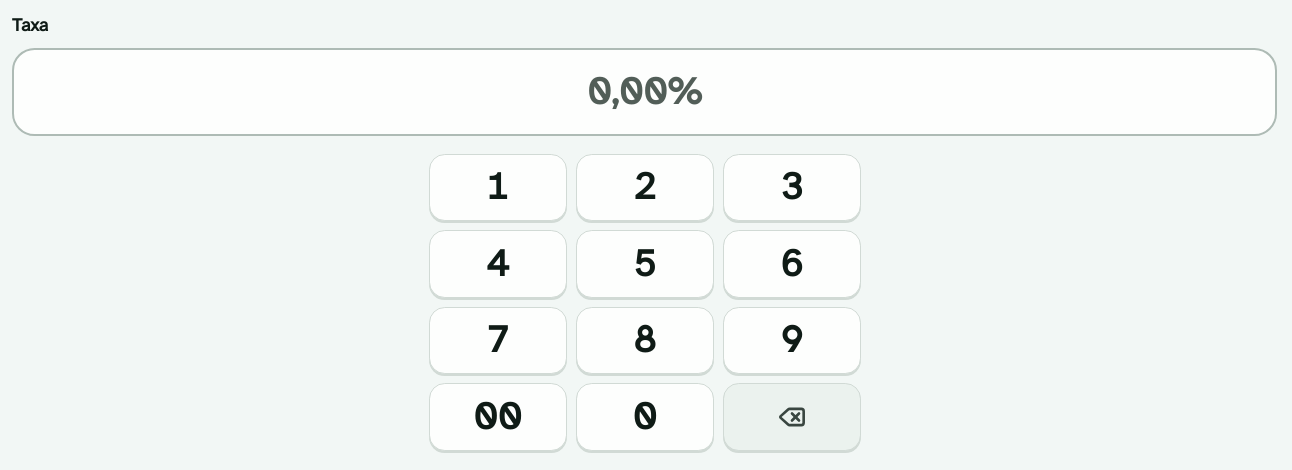
Test: PercentInput › os dígitos entram pela direita com 2 casas, sem vírgula
Check: the field labelled "Taxa" holds "0,00%", box [12,48,1277,136]
Click the button "1".
click(498, 187)  # box [428,154,566,221]
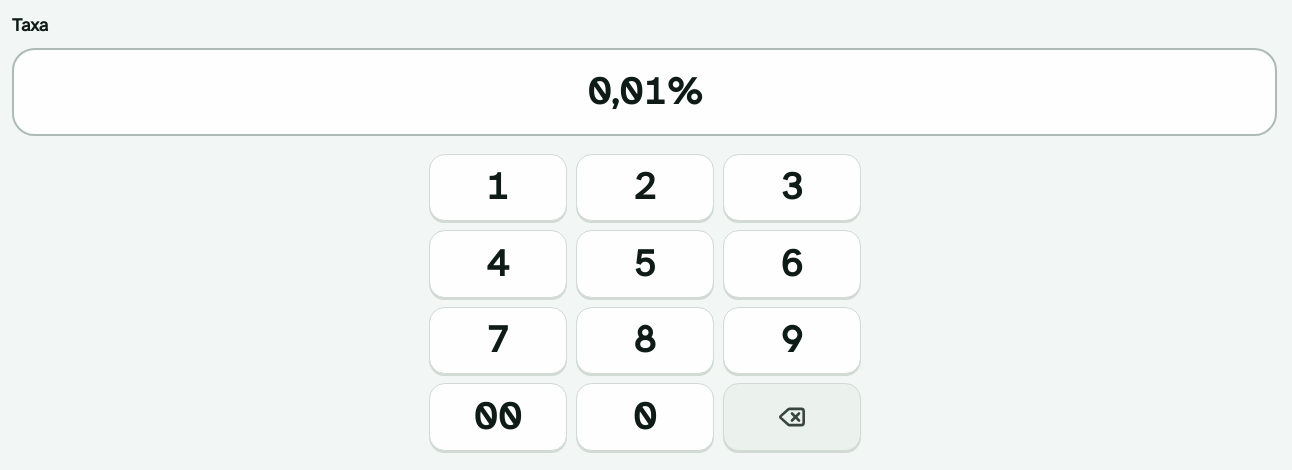
Click the button "9".
click(792, 340)  # box [722,307,860,374]
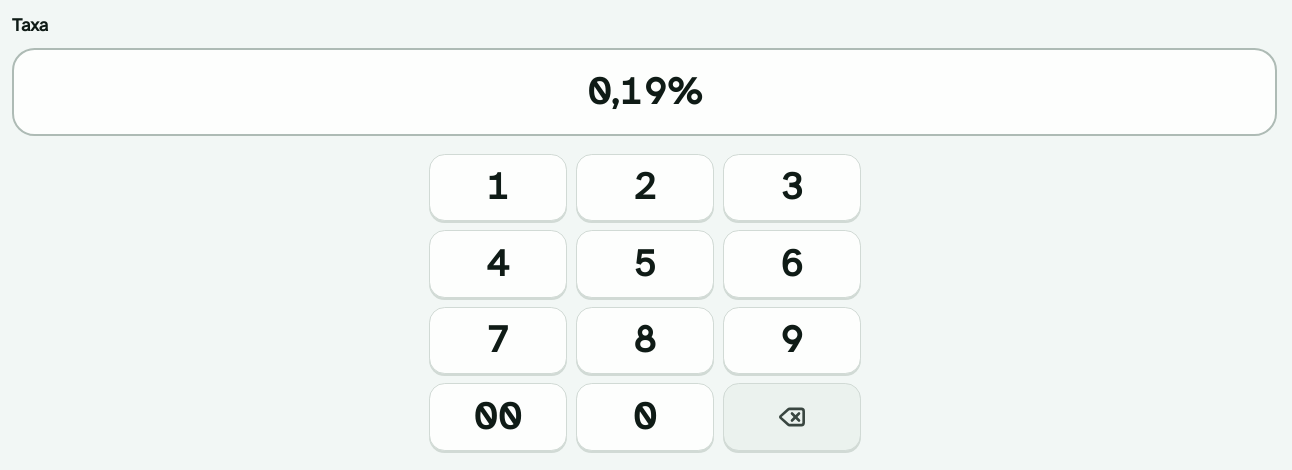
Click the button "9".
click(792, 340)  # box [722,307,860,374]
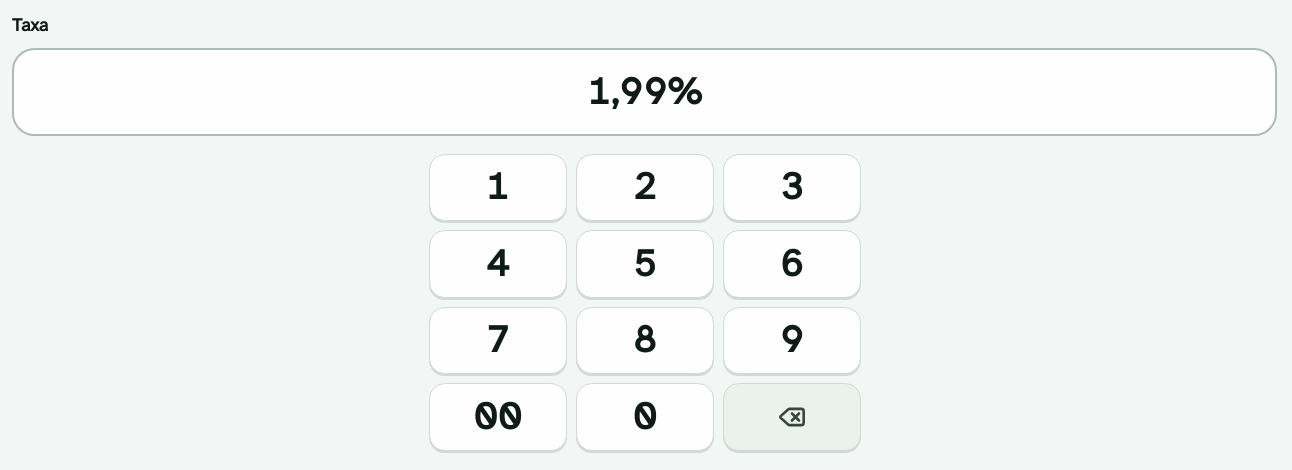
Check: the field labelled "Taxa" holds "1,99%", box [12,48,1277,136]
Click the button named "Apagar".
click(792, 417)  # box [722,383,860,451]
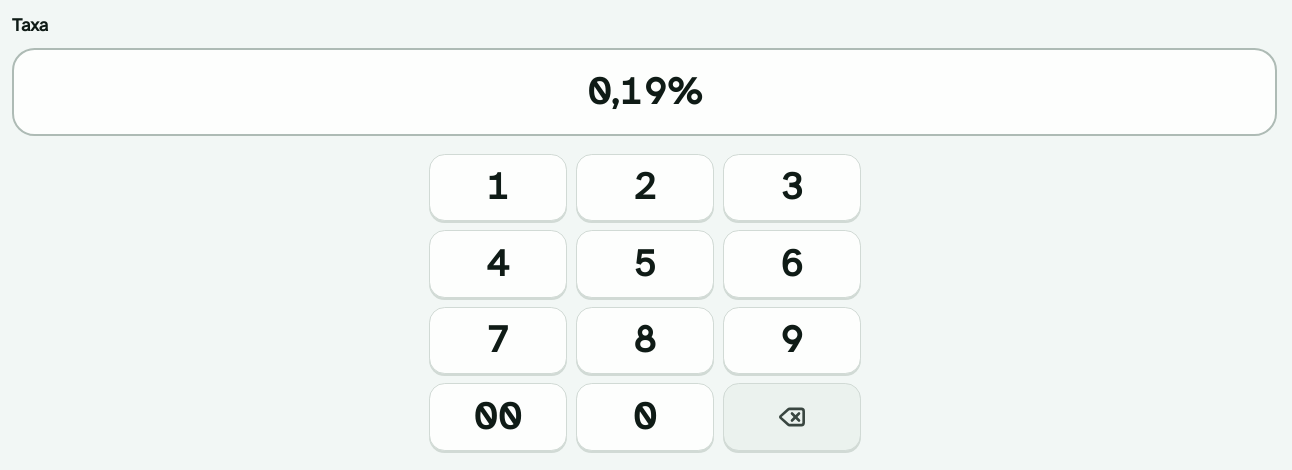
Check: the field labelled "Taxa" holds "0,19%", box [12,48,1277,136]
